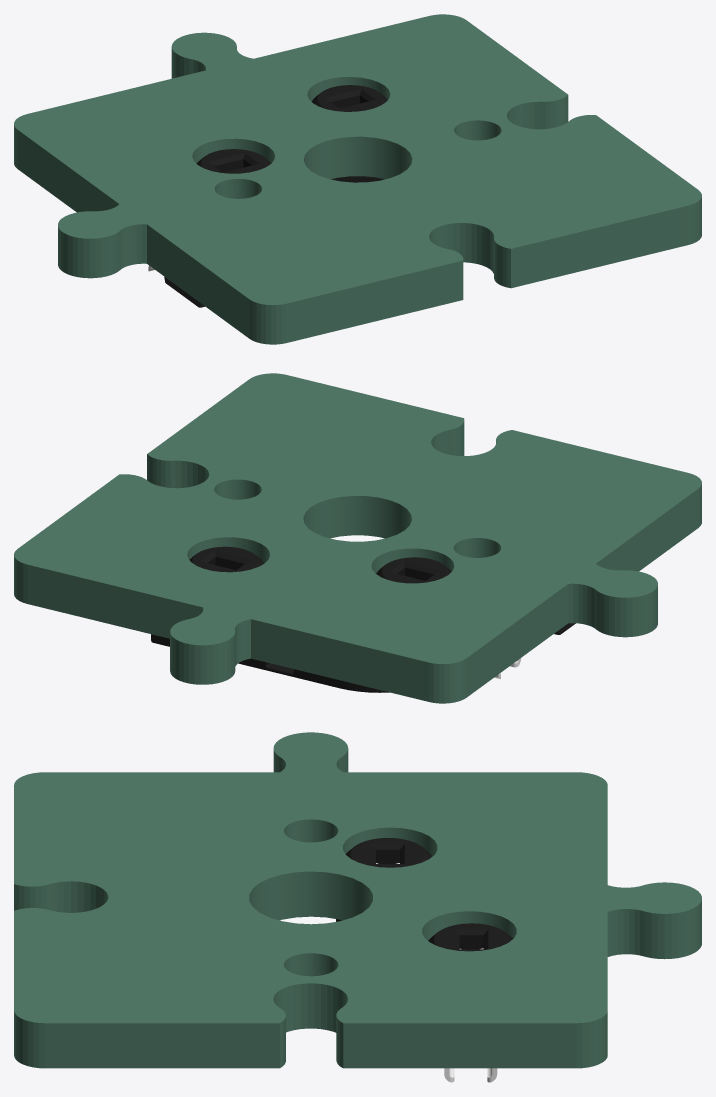
Rendered from piece.gltf.
3 renders of one model, top to bottom at view 1: azimuth 30°, elevation 25°; view 2: azimuth 150°, elevation 25°; view 3: azimuth 270°, elevation 25°, orthographic. The views are drawn at different scales.
Visible parts, largest first — view 1: =>[0:1:1:11], =>[0:1:1:3]; view 2: =>[0:1:1:11], =>[0:1:1:3]; view 3: =>[0:1:1:11], =>[0:1:1:3].
Boxes of the visible parts, box(x1,y1,x2,y2) form: =>[0:1:1:11]: box(14, 14, 701, 344); =>[0:1:1:3]: box(196, 85, 387, 182); =>[0:1:1:11]: box(14, 373, 701, 703); =>[0:1:1:3]: box(151, 546, 451, 692); =>[0:1:1:11]: box(14, 732, 701, 1068); =>[0:1:1:3]: box(336, 838, 512, 951).
Size of the model in its own units: 0.0221 by 0.00345 by 0.0221.
